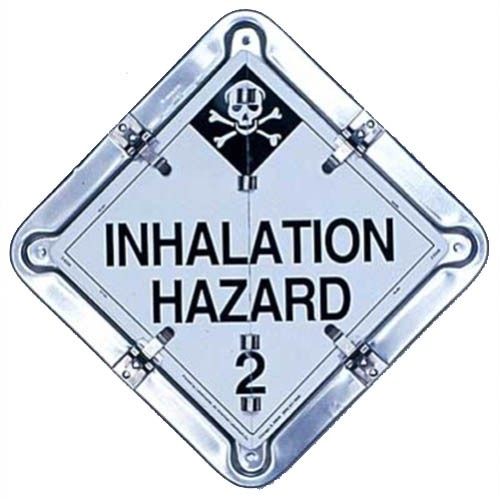InhalationHazard: (62, 77, 437, 437)
